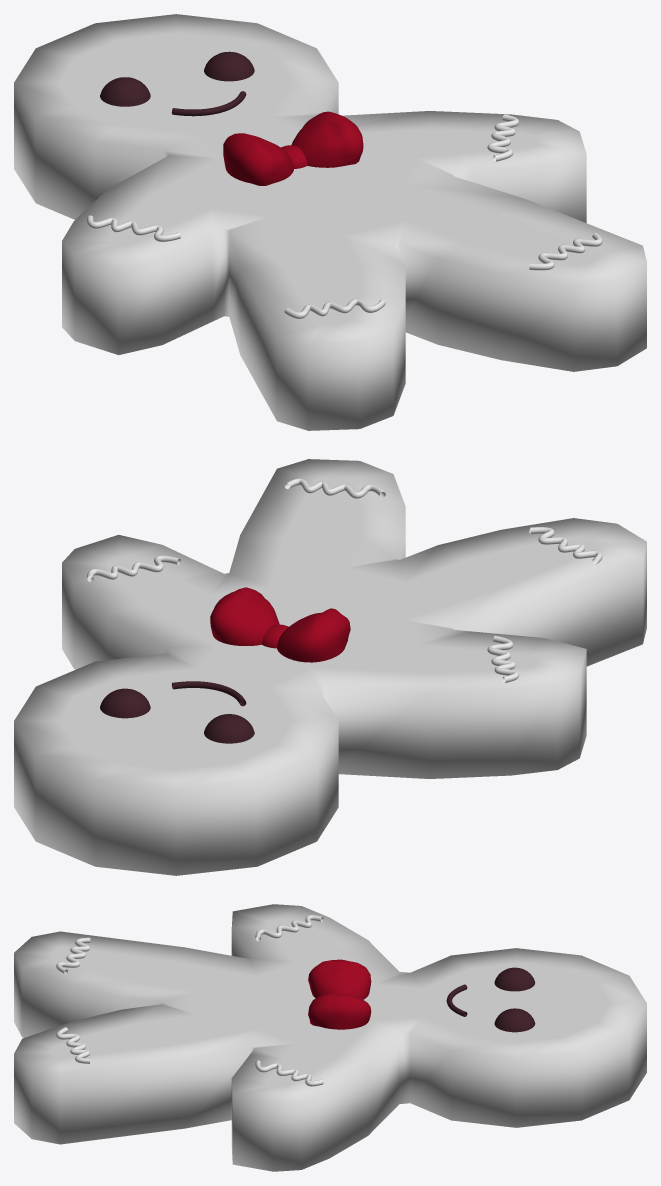
The model's file is ggb2.glb.
3 renders of one model, top to bottom at view 1: azimuth 30°, elevation 25°; view 2: azimuth 150°, elevation 25°; view 3: azimuth 270°, elevation 25°, orthographic. The views are drawn at different scales.
Parts seen in each view (by area): view 1: Circle.048, Sphere.001, Sphere.028, NurbsPath.023, NurbsPath.022; view 2: Circle.048, Sphere.001, Sphere.028, NurbsPath.023, NurbsPath.022; view 3: Circle.048, Sphere.001, Sphere.028, NurbsPath.023, NurbsPath.022.
Part boxes in pixels (<box>): Circle.048: <box>14,14,646,430</box>; Sphere.001: <box>223,111,363,185</box>; Sphere.028: <box>100,51,254,106</box>; NurbsPath.023: <box>86,114,519,241</box>; NurbsPath.022: <box>284,233,602,318</box>; Circle.048: <box>14,459,646,875</box>; Sphere.001: <box>210,587,350,662</box>; Sphere.028: <box>100,688,254,743</box>; NurbsPath.023: <box>86,555,519,682</box>; NurbsPath.022: <box>284,478,602,564</box>; Circle.048: <box>14,904,646,1171</box>; Sphere.001: <box>308,959,371,1029</box>; Sphere.028: <box>494,967,535,1032</box>; NurbsPath.023: <box>255,915,323,1086</box>; NurbsPath.022: <box>56,937,90,1063</box>.
Size of the model in its own units: 3.59 by 0.8243 by 4.85.
